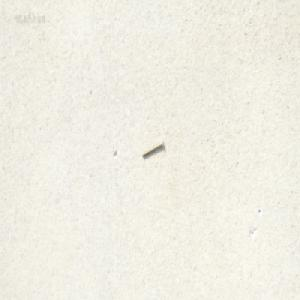Bolt: (141, 139, 164, 159)
